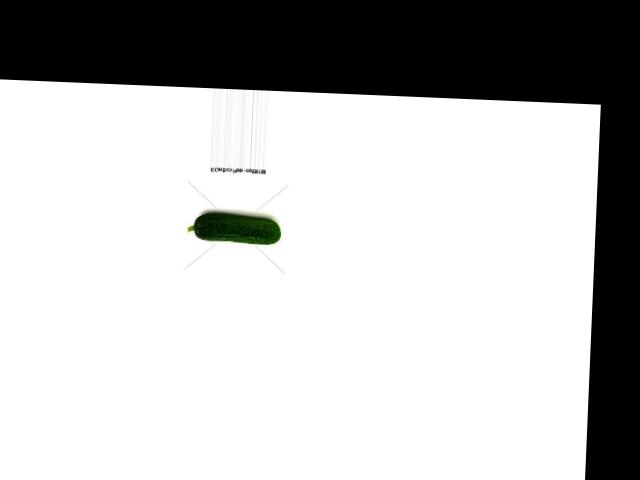cucumber: (187, 211, 282, 244)
